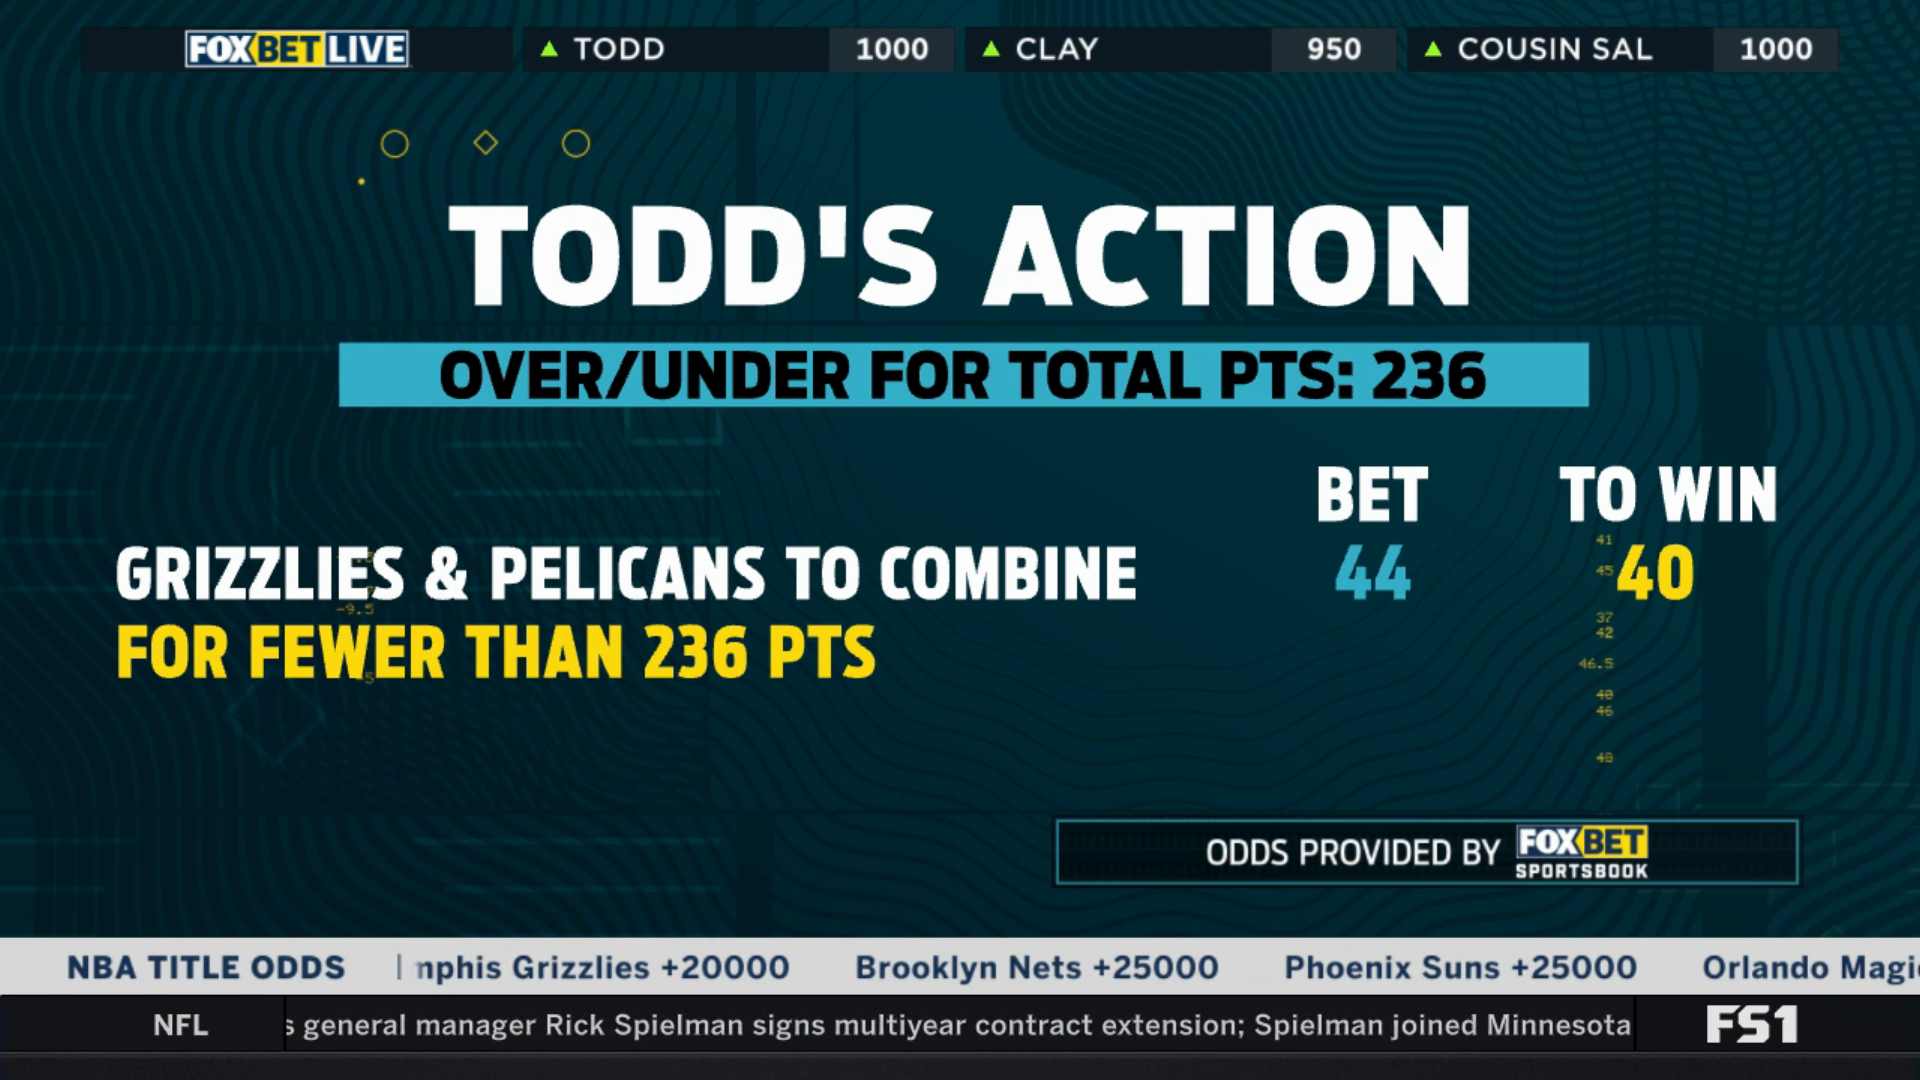Bet: (105, 533, 1151, 694)
Bet Amount: (1307, 454, 1447, 616)
Subtitle: (324, 328, 1604, 417)
Title: (431, 193, 1493, 320)
To Win: (1549, 454, 1795, 624)
Top Bar: (71, 18, 1845, 83)
